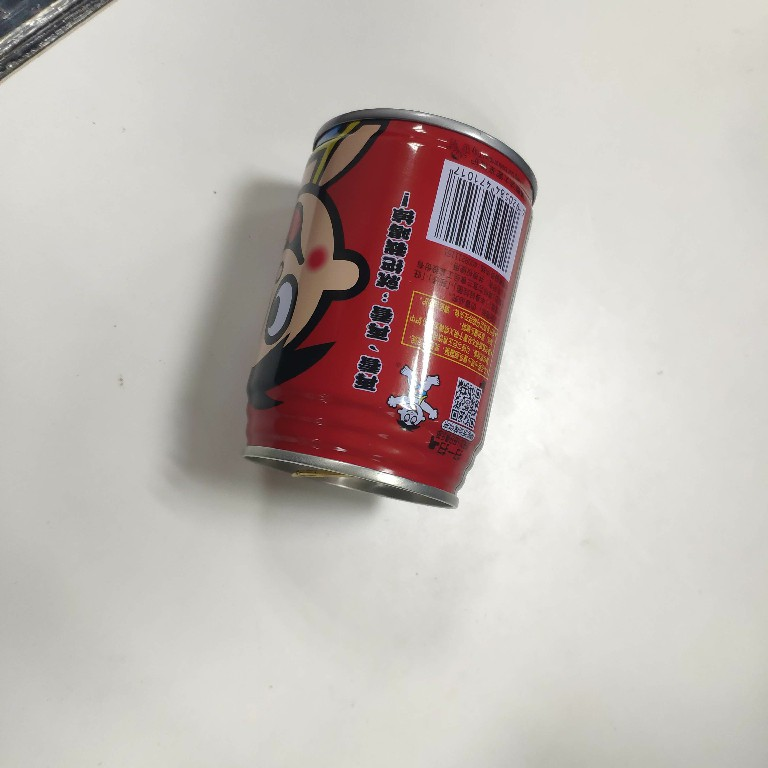can: (233, 105, 540, 515)
